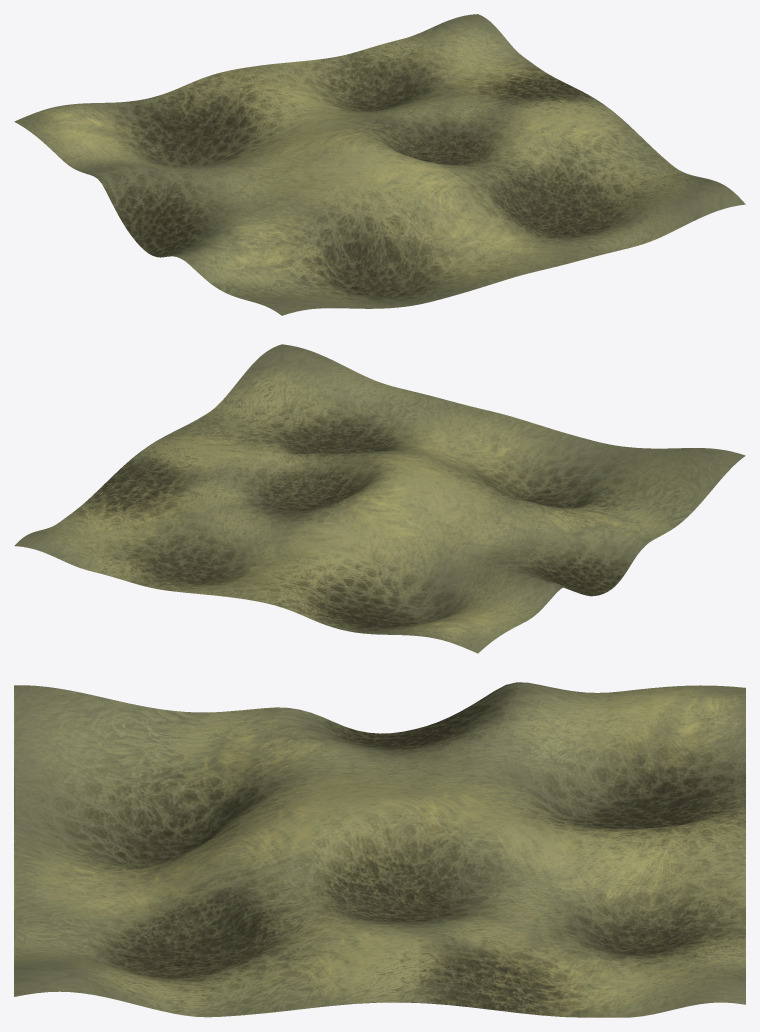
File: land.fbx
The picture shows the model from 3 angles, top to bottom: view 1: azimuth 30°, elevation 25°; view 2: azimuth 150°, elevation 25°; view 3: azimuth 270°, elevation 25°; orthographic projection. The views are drawn at different scales.
Parts seen in each view (by area): view 1: Plane; view 2: Plane; view 3: Plane.
Boxes of the visible parts, <box> form: Plane: <box>14,14,745,315</box>; Plane: <box>14,344,745,653</box>; Plane: <box>14,682,745,1017</box>.
Size of the model in its own units: 2020 by 271 by 2020.
Materials: 1 (1 with a texture image).
